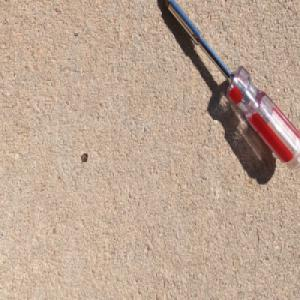Screwdriver: (163, 0, 300, 171)
